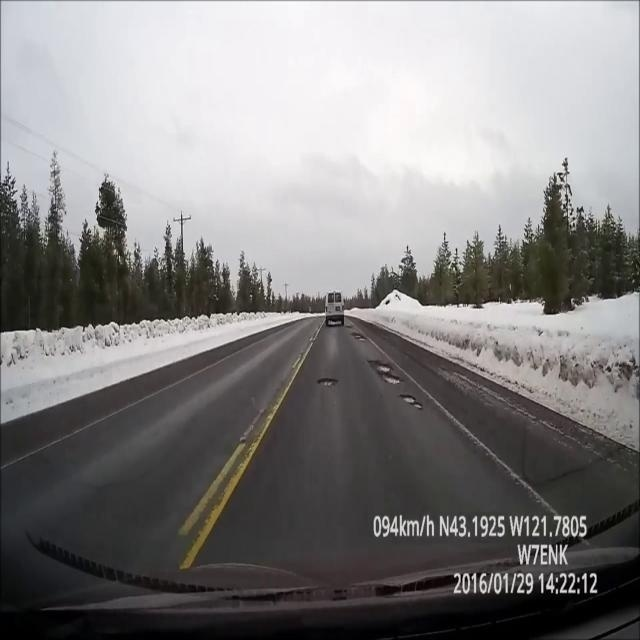pothole: (364, 353, 410, 388), (306, 361, 344, 398), (396, 386, 428, 414), (351, 324, 369, 349), (341, 315, 359, 336)
